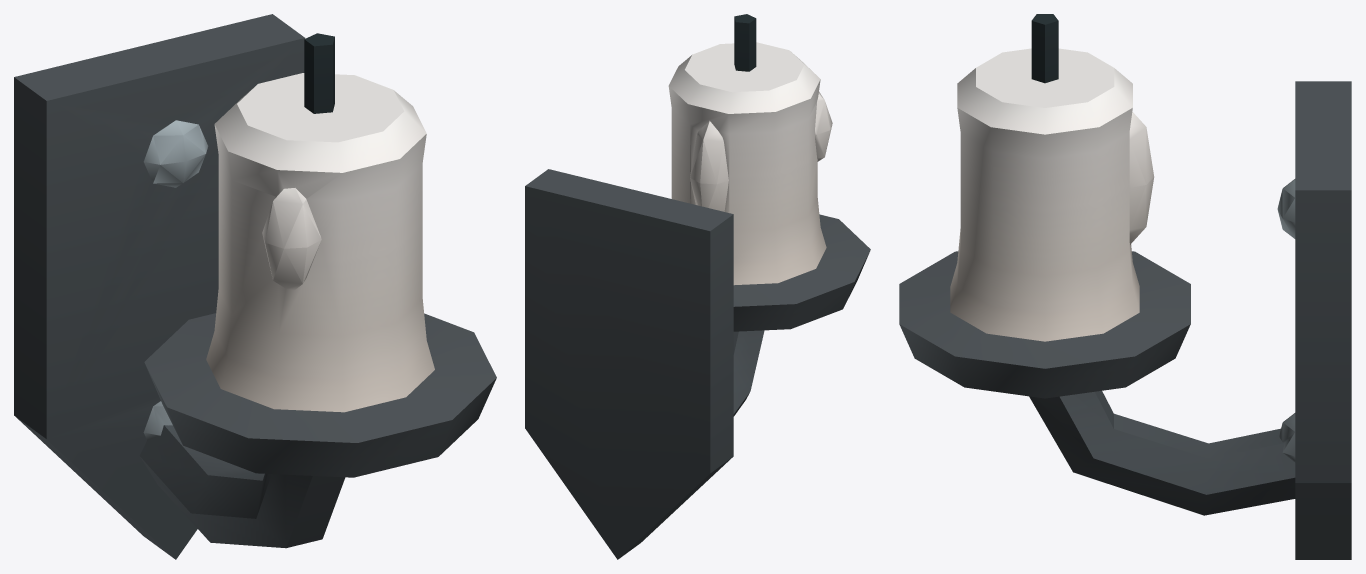
Rendered from sconce.glb.
3 renders of one model, left to right at view 1: azimuth 30°, elevation 25°; view 2: azimuth 150°, elevation 25°; view 3: azimuth 270°, elevation 25°, orthographic. The views are drawn at different scales.
Visible parts, largest first — view 1: sconce; view 2: sconce; view 3: sconce.
Boxes of the visible parts, bbox=[...] form: sconce: bbox=[14, 14, 496, 559]; sconce: bbox=[525, 14, 870, 559]; sconce: bbox=[899, 14, 1351, 559].
Bounding box in the file's own units: 0.38 × 0.74 × 0.5607.
Materials: 1 (1 with a texture image).
